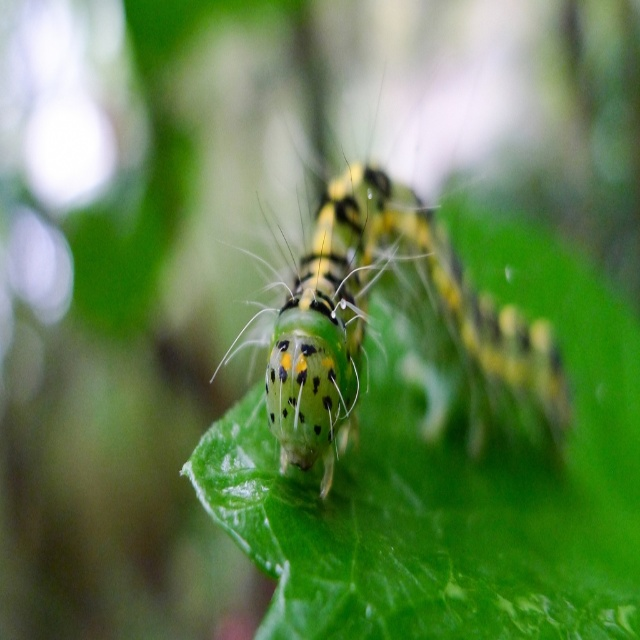Caterpillar: (209, 55, 575, 498)
